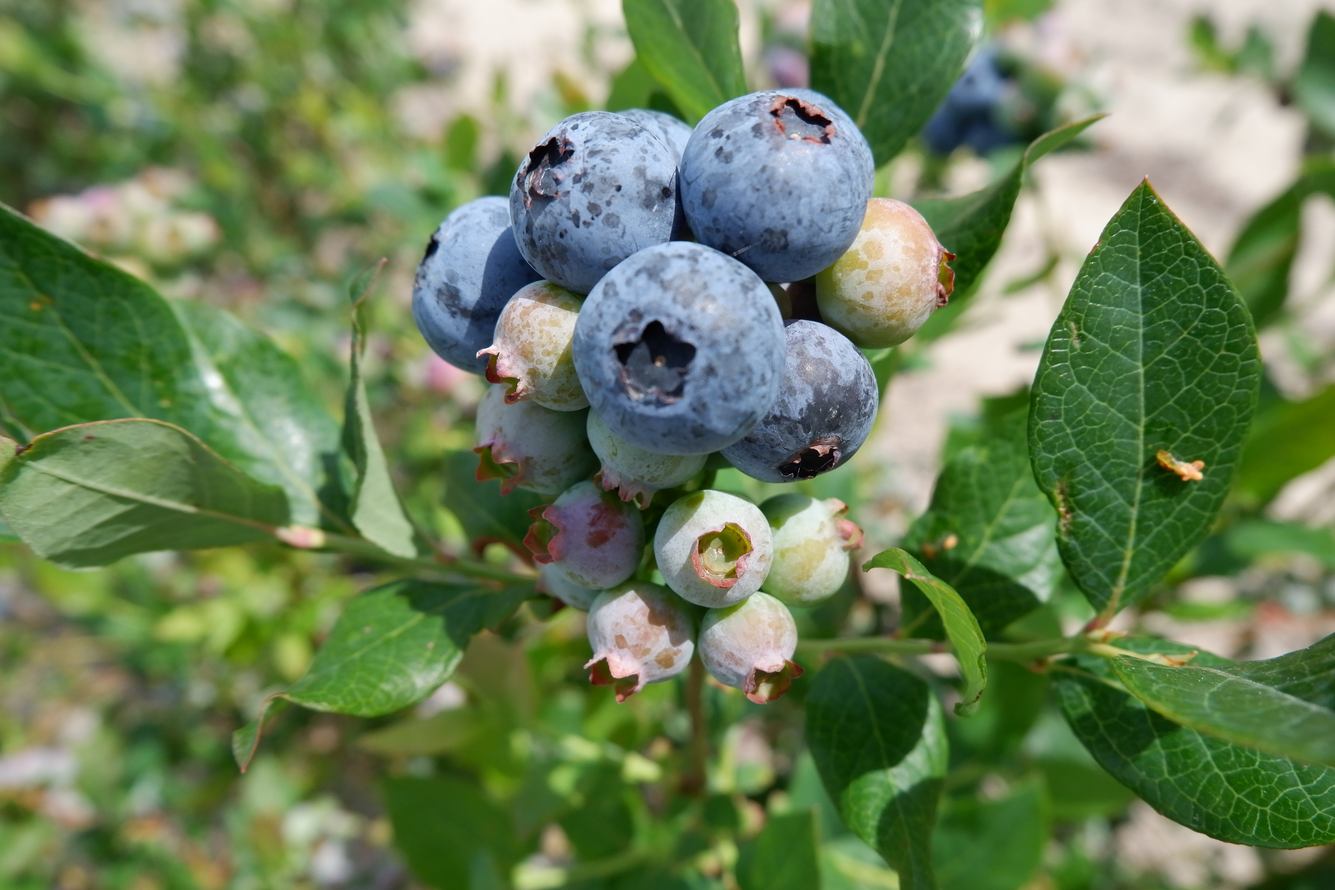Immature: (821, 199, 952, 346), (475, 383, 593, 499), (656, 492, 774, 606), (589, 583, 695, 700), (487, 284, 587, 408), (526, 484, 645, 585), (700, 595, 802, 703), (761, 495, 860, 604), (587, 411, 707, 495), (537, 563, 598, 612)
Mature: (573, 246, 783, 451), (684, 91, 871, 275), (512, 111, 680, 288), (729, 324, 877, 480), (414, 197, 533, 364), (616, 110, 692, 163)
